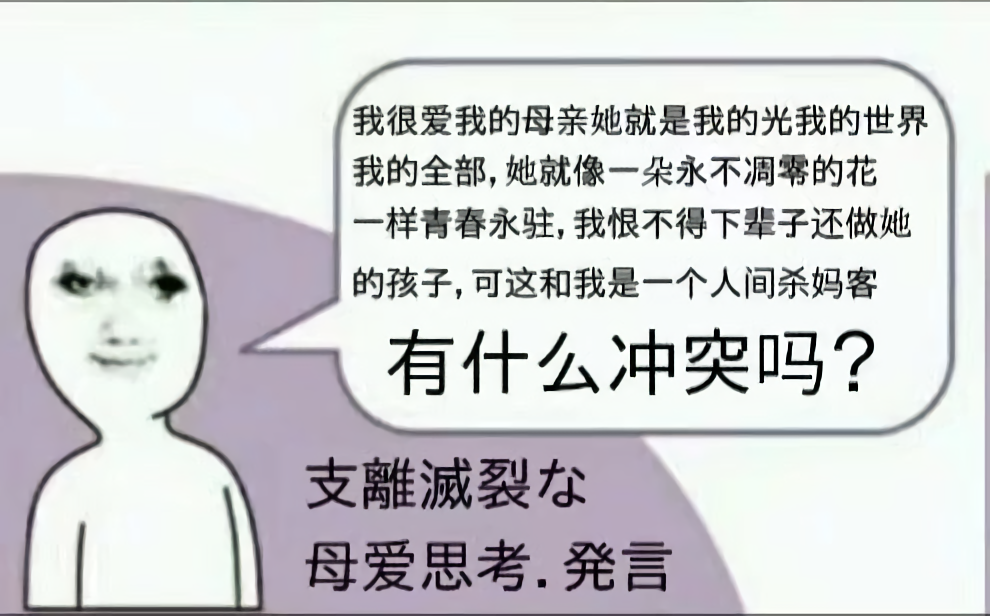dragon: (52, 252, 199, 383)
